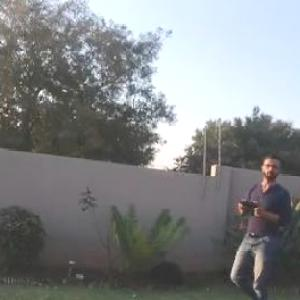follow: (223, 144, 299, 299)
